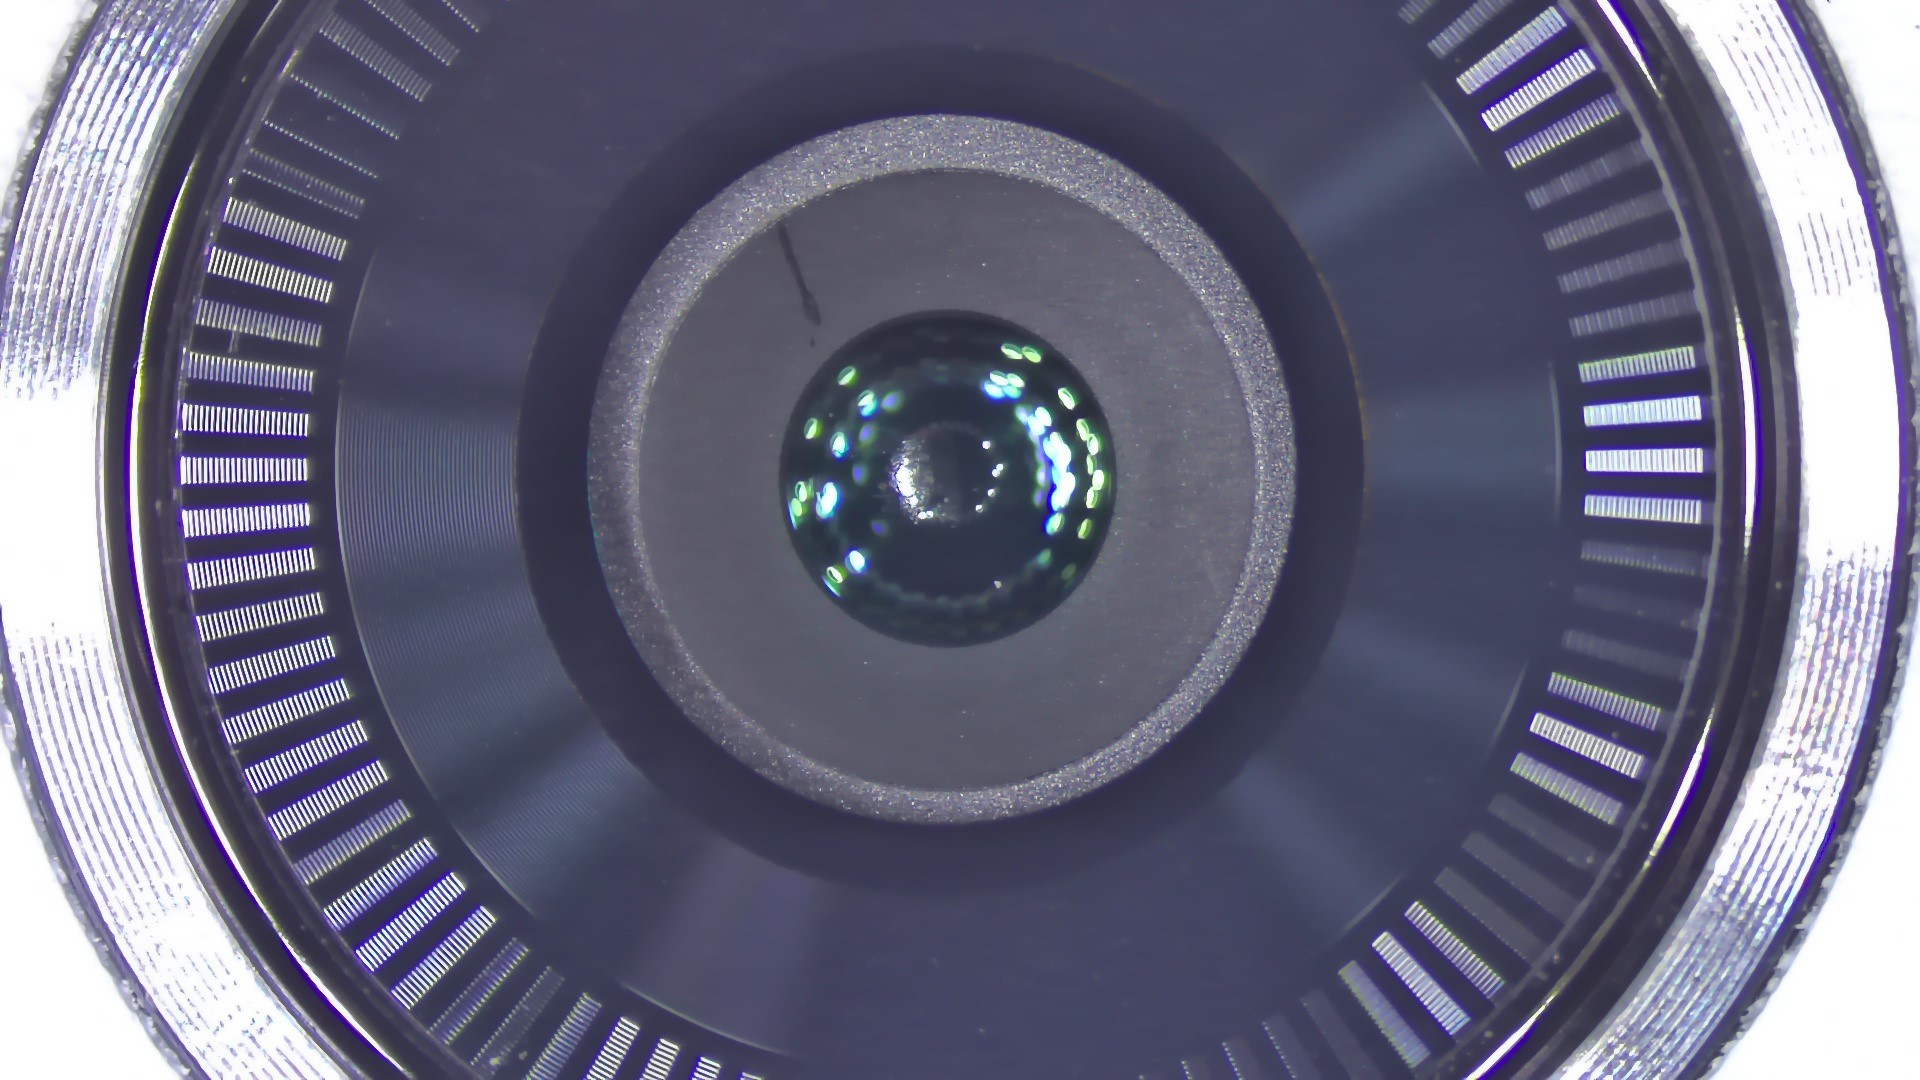crack: (760, 212, 829, 356)
